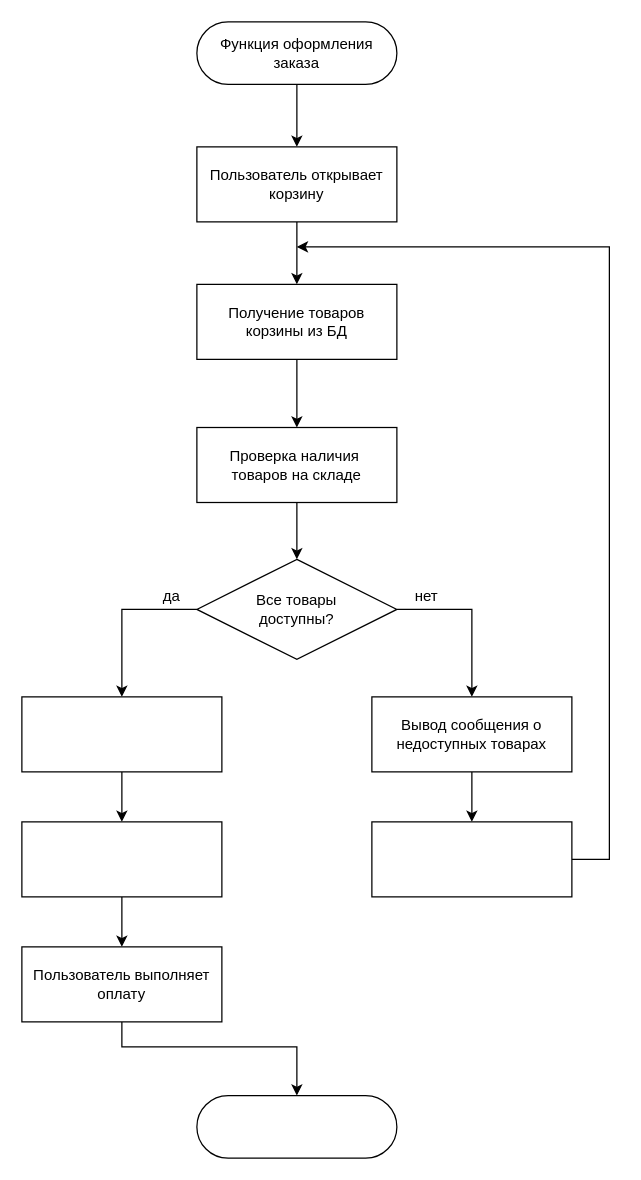
This 641x1180 diagram has some shape labels left out. Here are the shapes that lost their labels. From the top down, the centre of each, then its label:
At pixel 121 734: "Проверка актуальных цен товаров".
At pixel 121 859: "Создание платежной сессии Stripe".
At pixel 471 859: "Обновление корзины".
At pixel 296 1126: "Конец".
